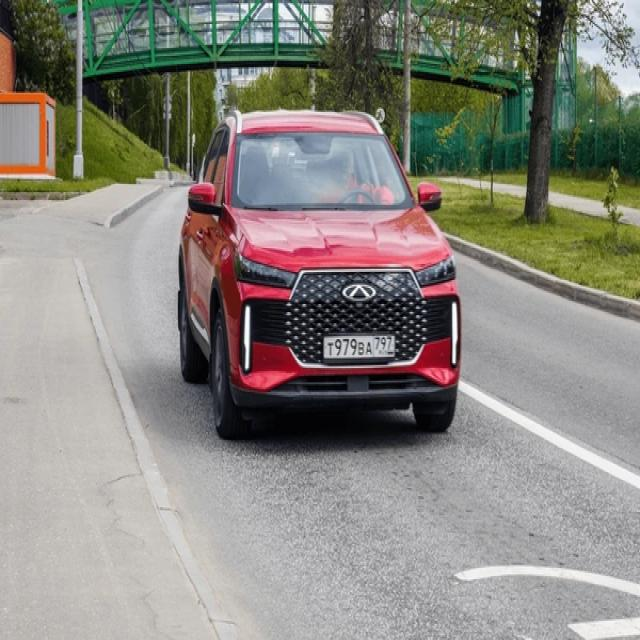mazda: (338, 284, 376, 301)
